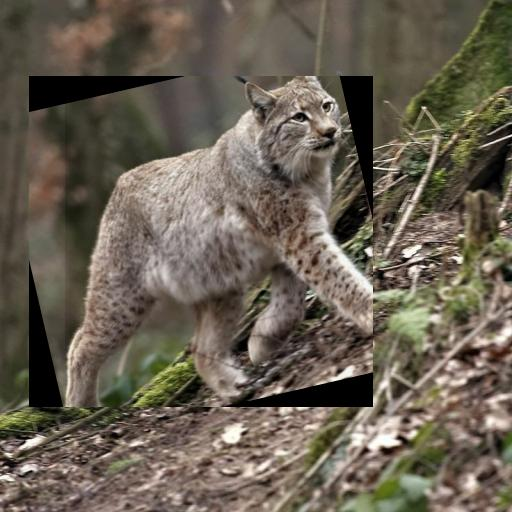lynx: (65, 76, 373, 407)
